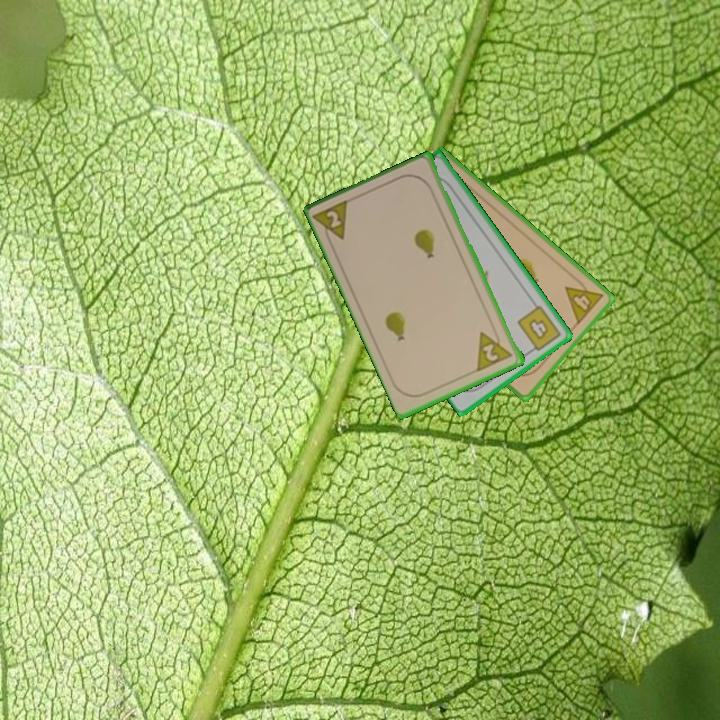2p: (311, 196, 353, 249), (474, 324, 516, 374)
4b: (514, 302, 564, 356)
4p: (561, 273, 606, 328)
